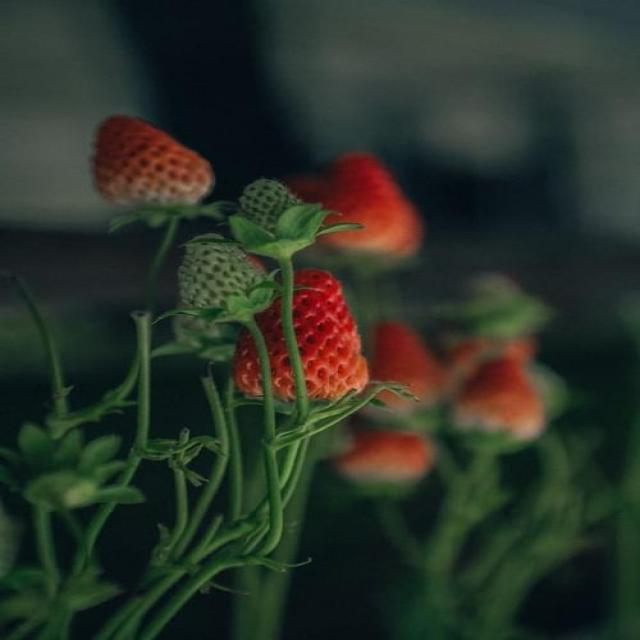ripe: (238, 268, 368, 404), (90, 113, 214, 207), (309, 155, 420, 260), (453, 353, 545, 447), (369, 317, 451, 411)
unripe: (180, 230, 264, 310), (244, 181, 307, 235)
